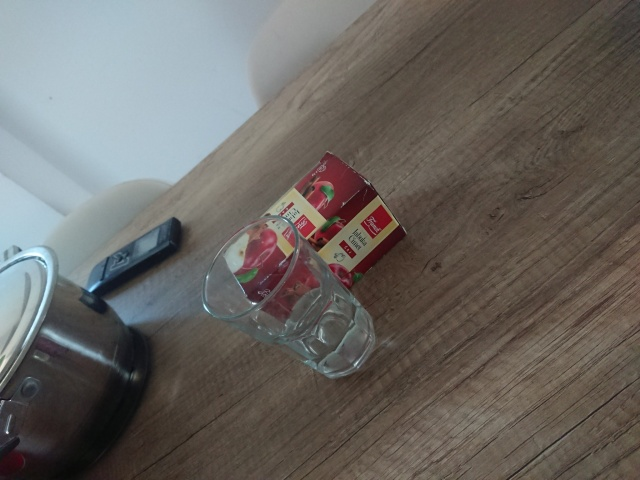Franck Apple Cinnamon Tea 60g: (219, 148, 410, 330)
